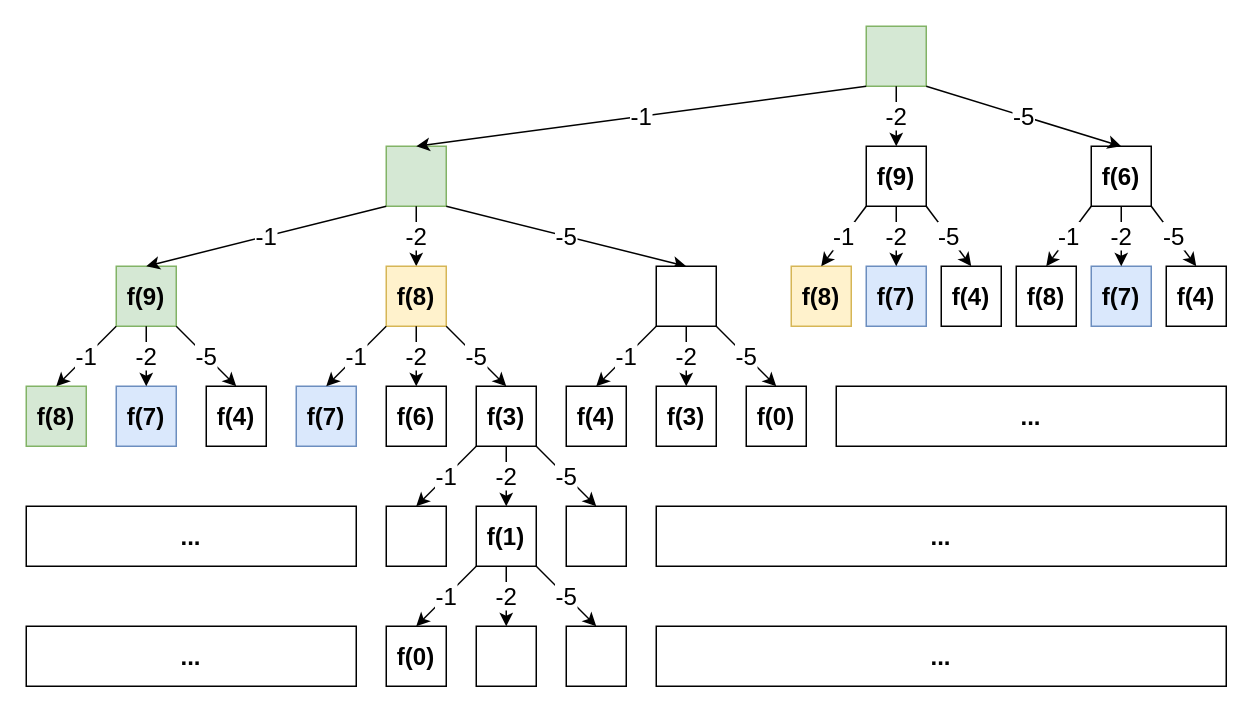
Image size: 1253x713. Some labels were removed from this diagram. Each missing label, with the box of its shape:
f(-1): (475, 625, 536, 686)
f(-2): (565, 505, 626, 566)
f(-4): (565, 625, 626, 686)
f(10): (385, 145, 446, 206)
f(11): (865, 25, 926, 86)
f(2): (385, 505, 446, 566)
f(5): (655, 265, 716, 326)
